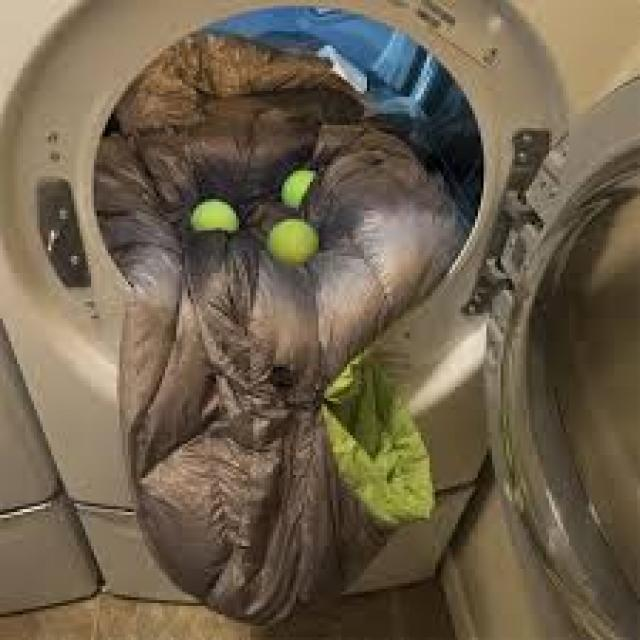Tennis-Ball: (268, 219, 322, 263), (190, 198, 242, 235), (282, 167, 323, 207)
